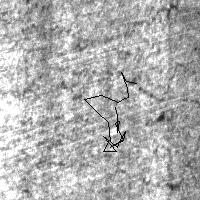crazing: (21, 6, 174, 105), (84, 72, 136, 151)
